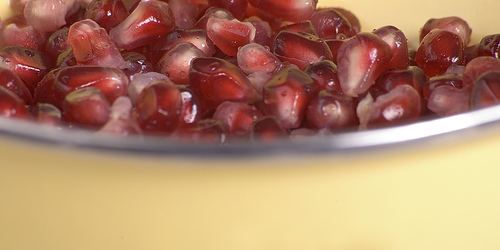pomogranate: (0, 0, 497, 136)
